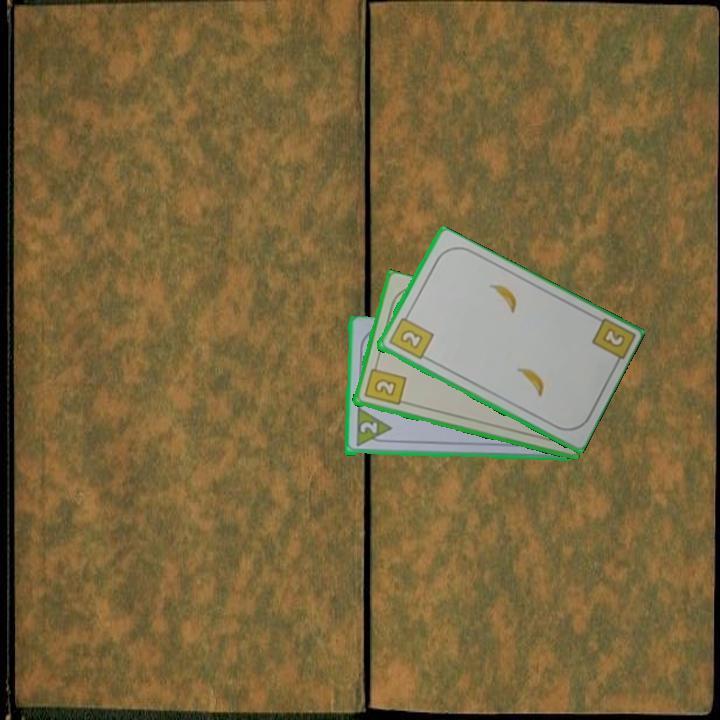2b: (385, 309, 436, 362), (360, 360, 408, 408), (598, 324, 628, 350)
2p: (356, 418, 380, 438)
